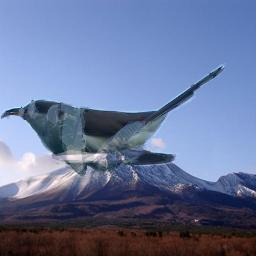Cuckoo: (1, 63, 232, 178)
